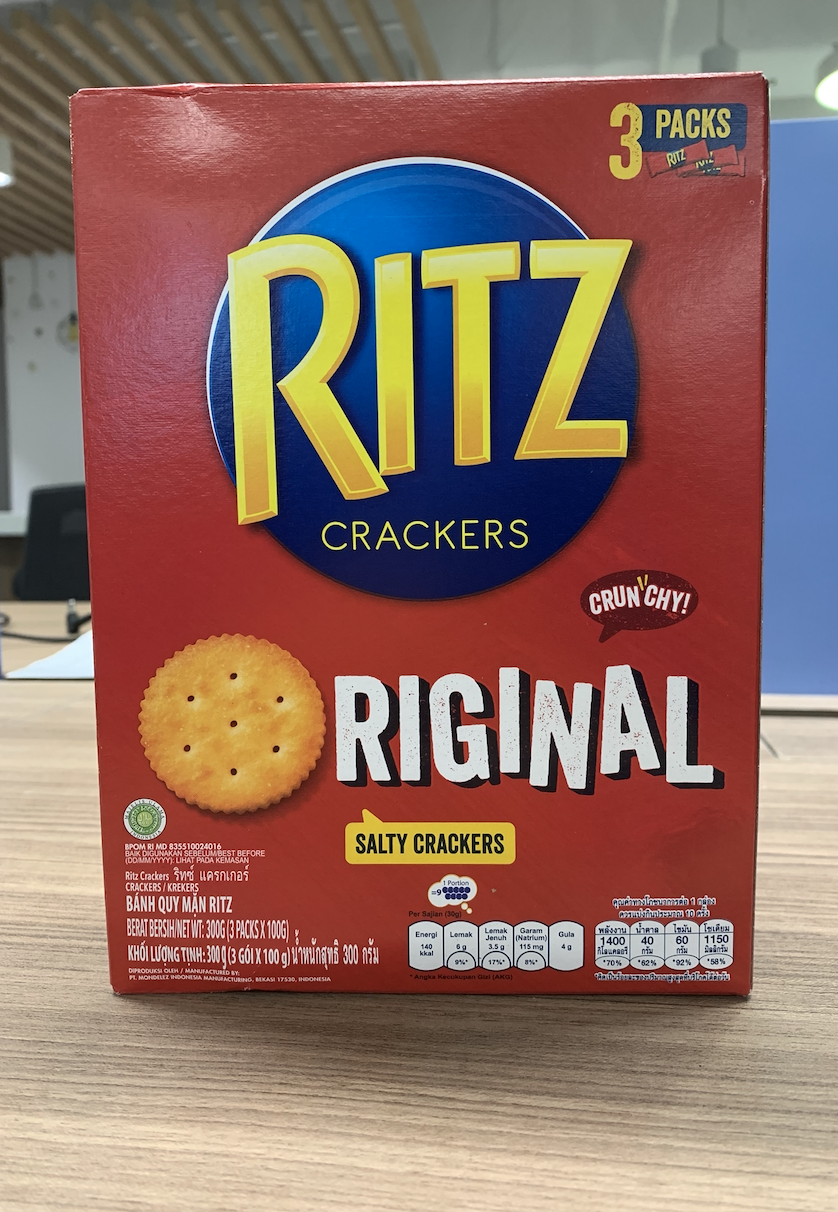crackers_300g-399g: (85, 92, 745, 977)
